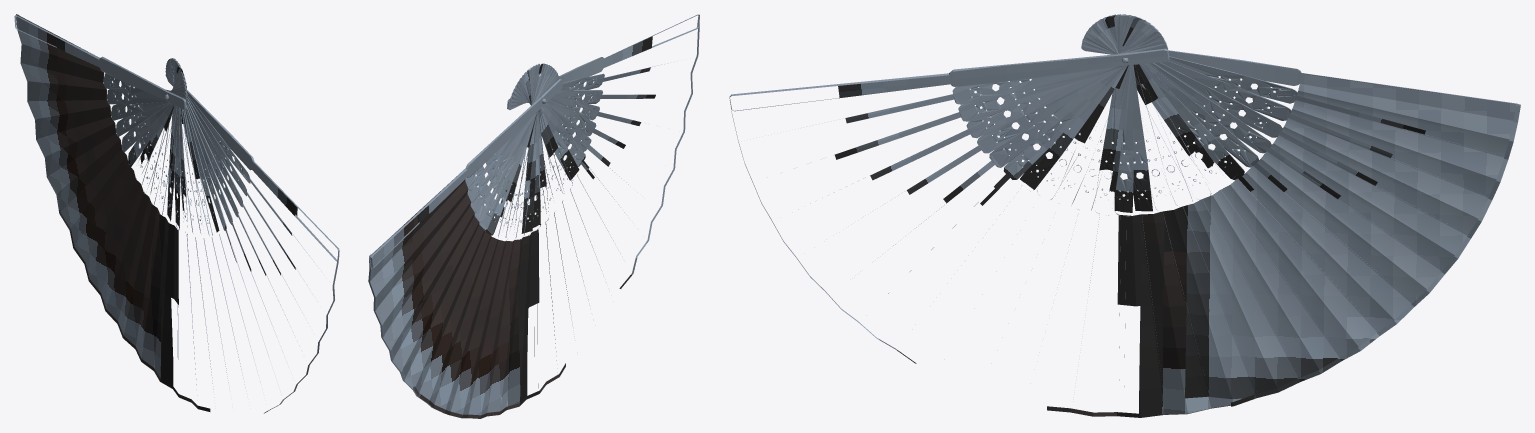
Rendered from tessen.obj.
3 views of the same model, side by side, from view 1: azimuth 30°, elevation 25°; view 2: azimuth 150°, elevation 25°; view 3: azimuth 270°, elevation 25° (orthographic). The views are drawn at different scales.
Parts seen in each view (by area): view 1: Tessin; view 2: Tessin; view 3: Tessin.
Part boxes in pixels (x1,y1,x2,y2): Tessin: [14, 14, 339, 413]; Tessin: [368, 14, 699, 418]; Tessin: [729, 14, 1520, 417].
Size of the model in its own units: 0.0985 by 1.37 by 2.45.
